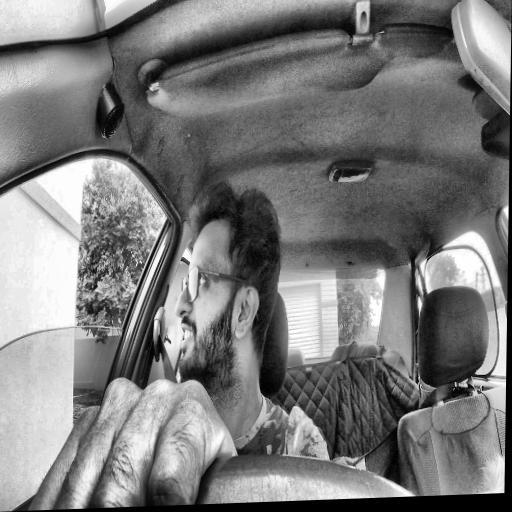awake: (173, 178, 284, 383)
